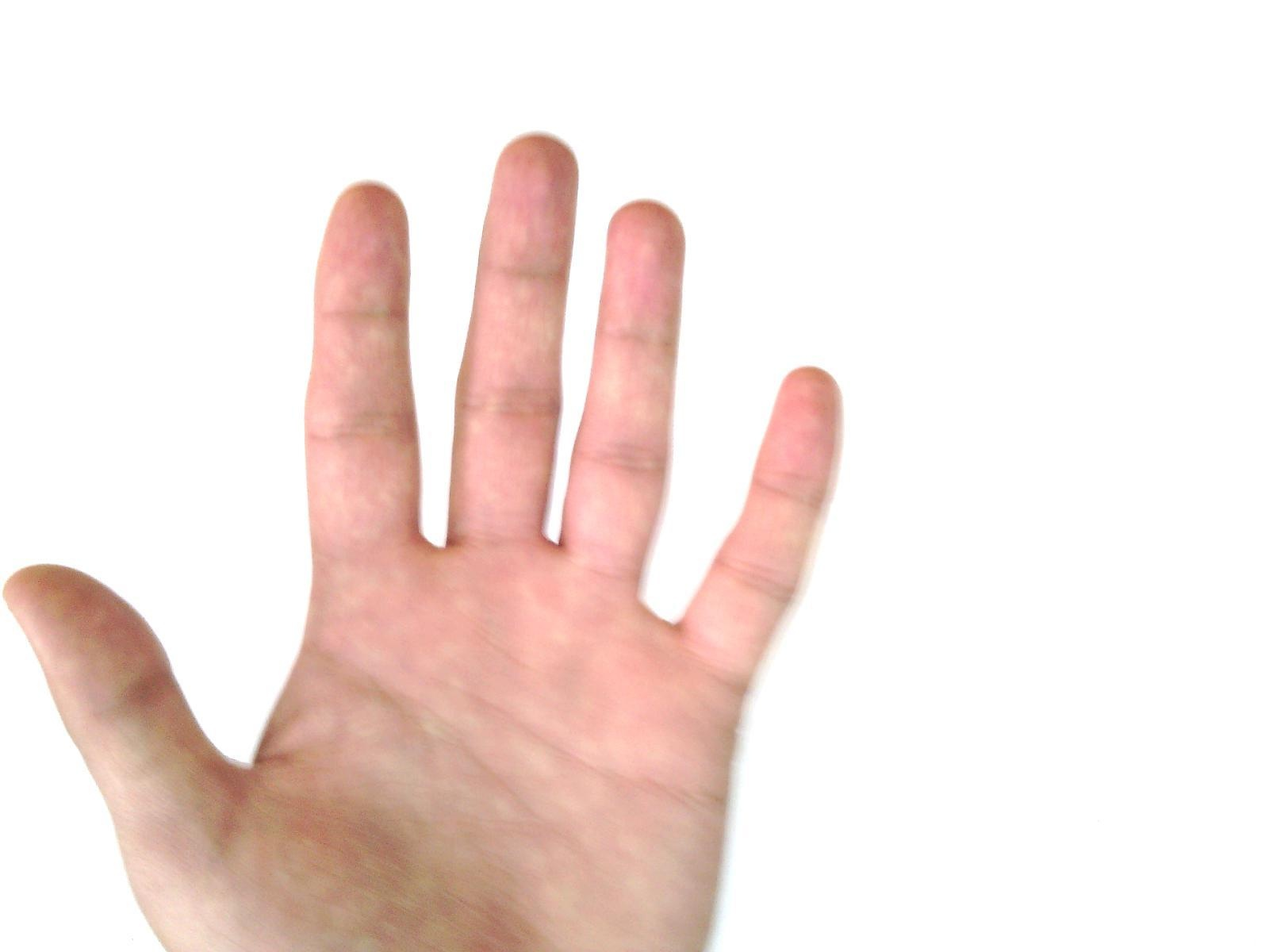open_palm: (6, 132, 848, 951)
